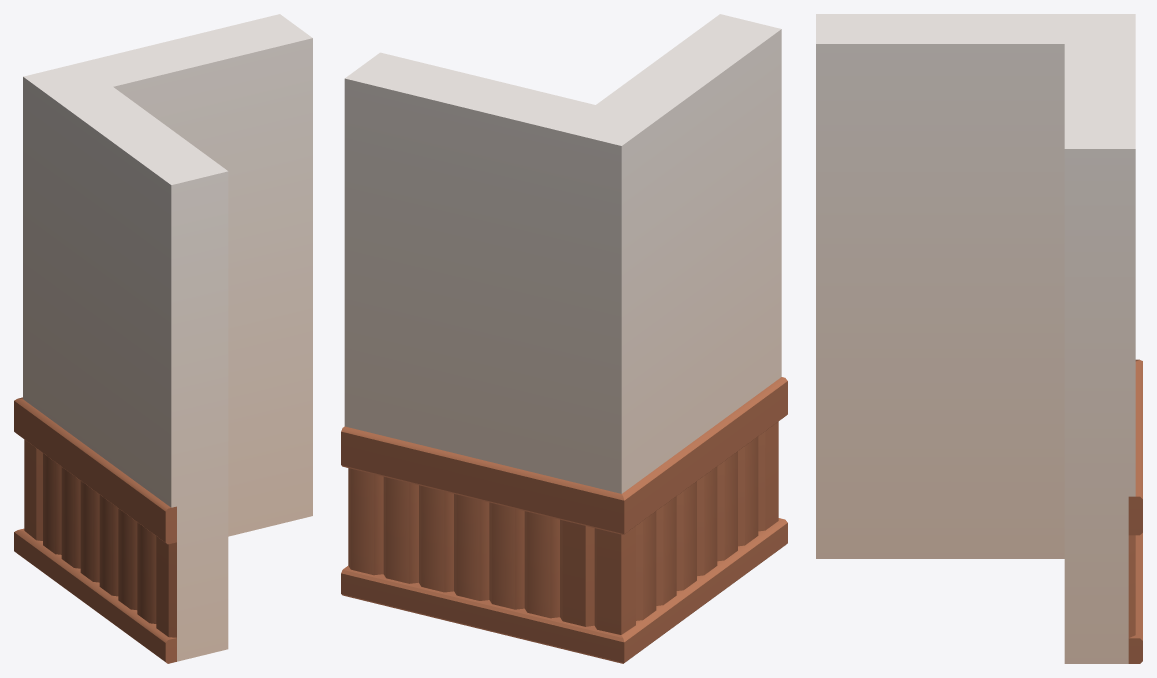
The model's file is wall-panelled-bakery-corner-outer.glb.
3 views of the same model, side by side, from view 1: azimuth 30°, elevation 25°; view 2: azimuth 150°, elevation 25°; view 3: azimuth 270°, elevation 25° (orthographic). The views are drawn at different scales.
Parts seen in each view (by area): view 1: wall_panelled_bakery_corner_outer; view 2: wall_panelled_bakery_corner_outer; view 3: wall_panelled_bakery_corner_outer.
Part boxes in pixels (<box>): wall_panelled_bakery_corner_outer: <box>14,14,312,663</box>; wall_panelled_bakery_corner_outer: <box>341,14,787,663</box>; wall_panelled_bakery_corner_outer: <box>816,14,1142,663</box>.
Size of the model in its own units: 2.3 by 4 by 2.3.
1 material, 1 textured.
